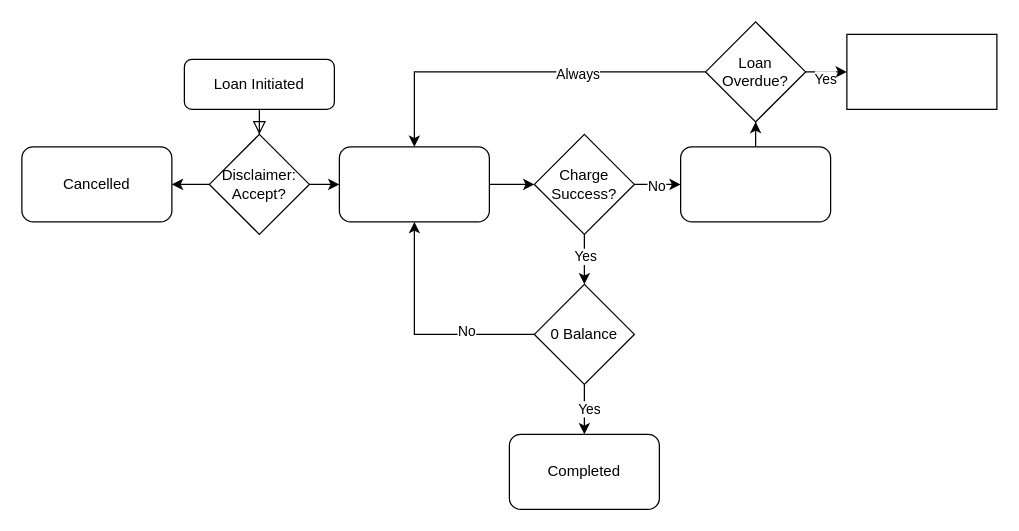
Image size: 1019x531. Some labels were removed from this diagram. The shapes that lost their labels are listed below. From the top down, each one's centre as x and y in pixels, then its label:
(921,71): Execute punishment command
(413,184): Charge Daily Amount
(755,184): Add fee to loan proportional to amount paid
